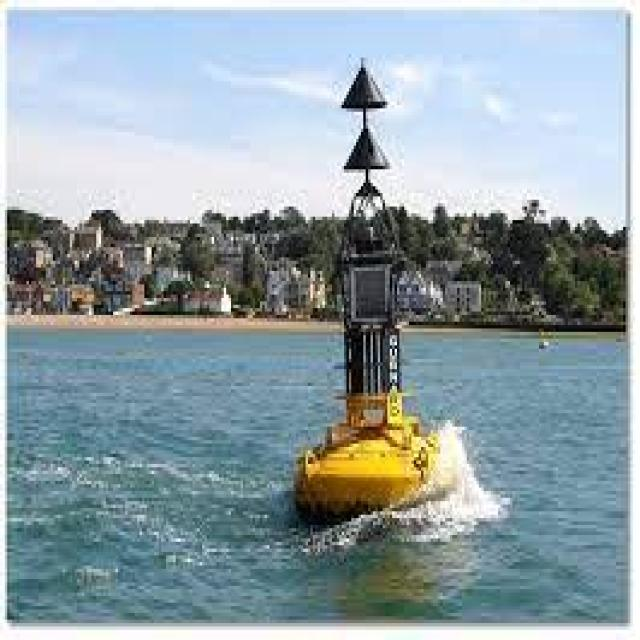marque: (297, 60, 459, 524)
